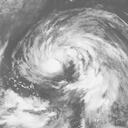cyclone: (11, 9, 123, 86)
